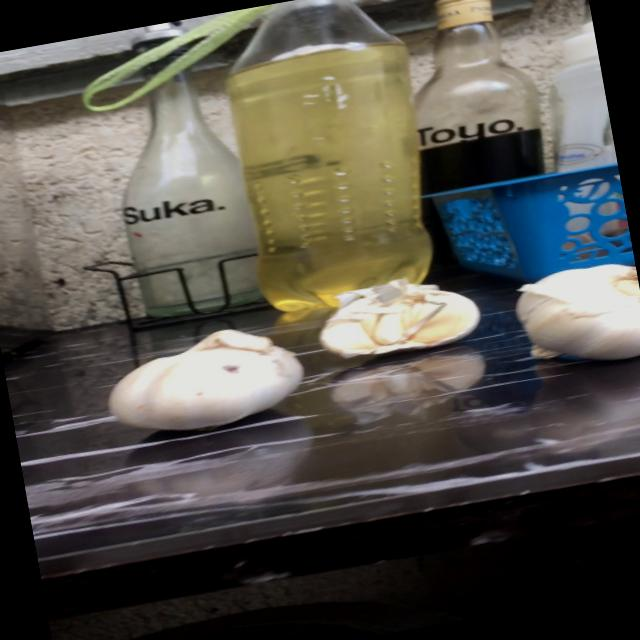bawang: (92, 315, 314, 446), (311, 264, 492, 370), (505, 255, 640, 379)
